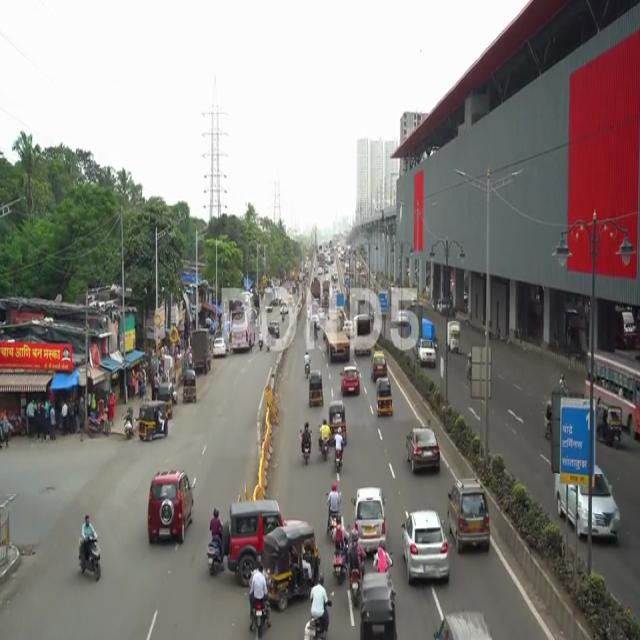bus: (585, 349, 640, 439)
car: (148, 467, 197, 542)
motorbike: (398, 506, 448, 585), (74, 508, 105, 586), (250, 562, 267, 640)
